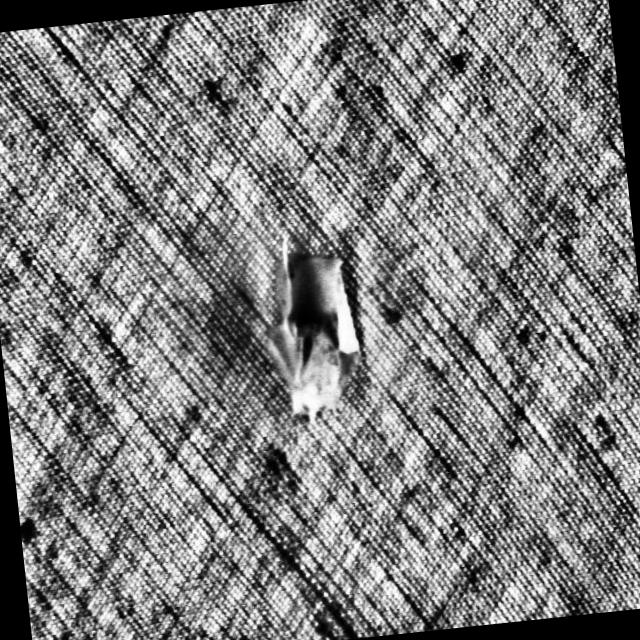gray stitch: (255, 227, 372, 420)
